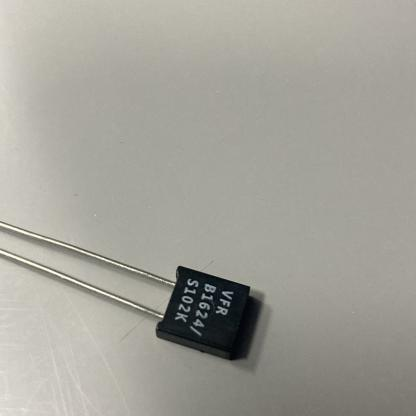SP0000008: (0, 154, 415, 415)
